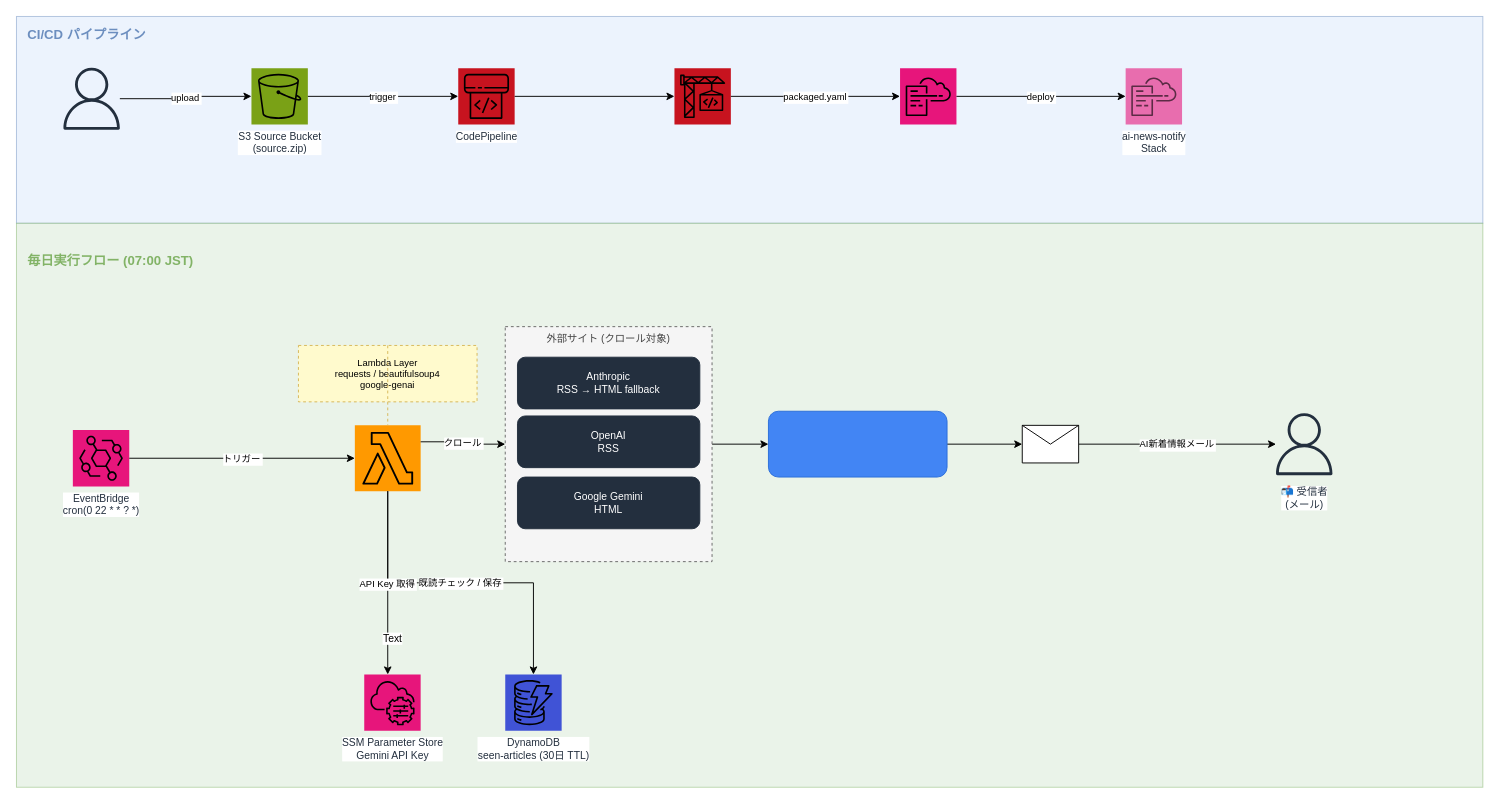
Image size: 1499x804. Some labels were removed from this diagram. Each missing label, with the centre of its shape:
"CloudFormation (ChangeSet Deploy)" goes at (x=928, y=96).
"CodeBuild (sam build + package)" goes at (x=702, y=96).
"Gemini API gemini-2.5-flash 日本語翻訳" goes at (x=857, y=443).
"Lambda ai-news-notify-crawler Python 3.13 / 300s" goes at (x=387, y=458).
"SES" goes at (x=1050, y=443).
"開発者" goes at (x=91, y=98).
